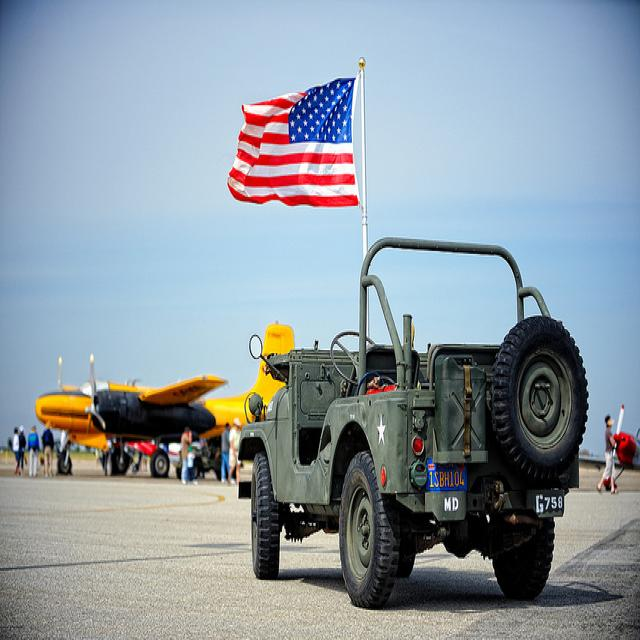Vehicle: (238, 239, 590, 603)
